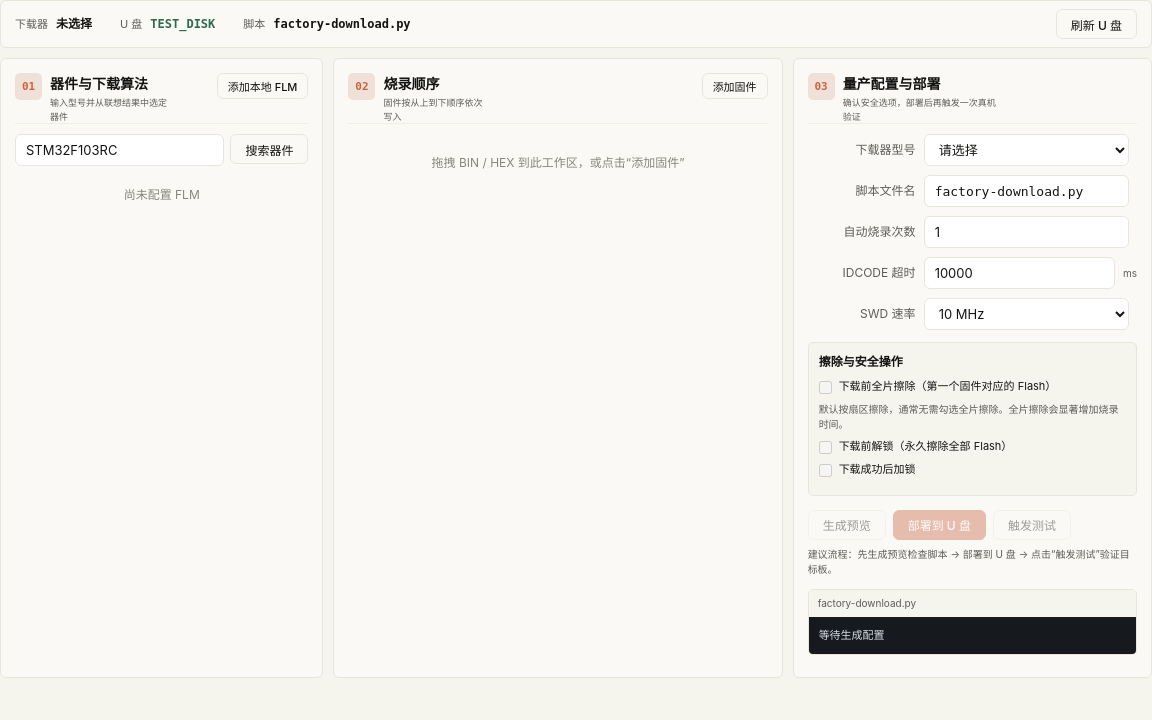
Test: OfflineFlashView › searches target suggestions while typing and supports keyboard selection
Replace the text in the dropdown with test id "offline-target-search" with "STM32F103R" at (120, 150), box x1=15 y1=134 x2=224 y2=166
Wait 151 ms
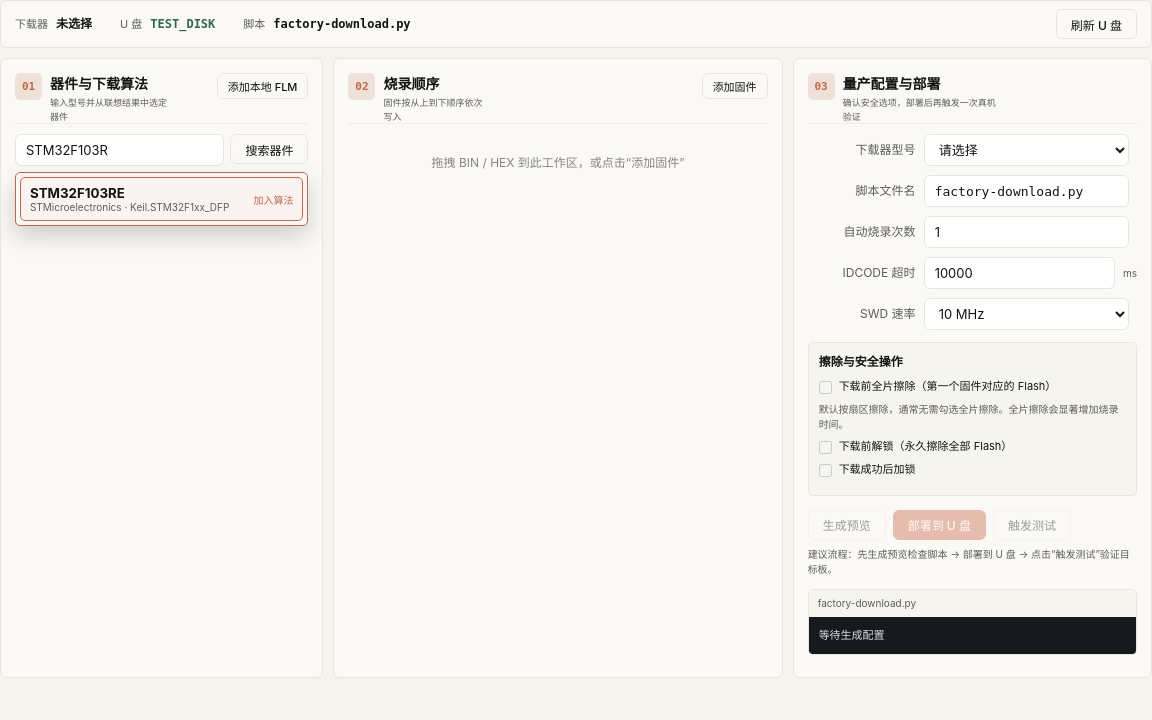
Check: the dropdown with test id "offline-target-search" is expanded
Press Enter in the dropdown with test id "offline-target-search", box x1=15 y1=134 x2=224 y2=166
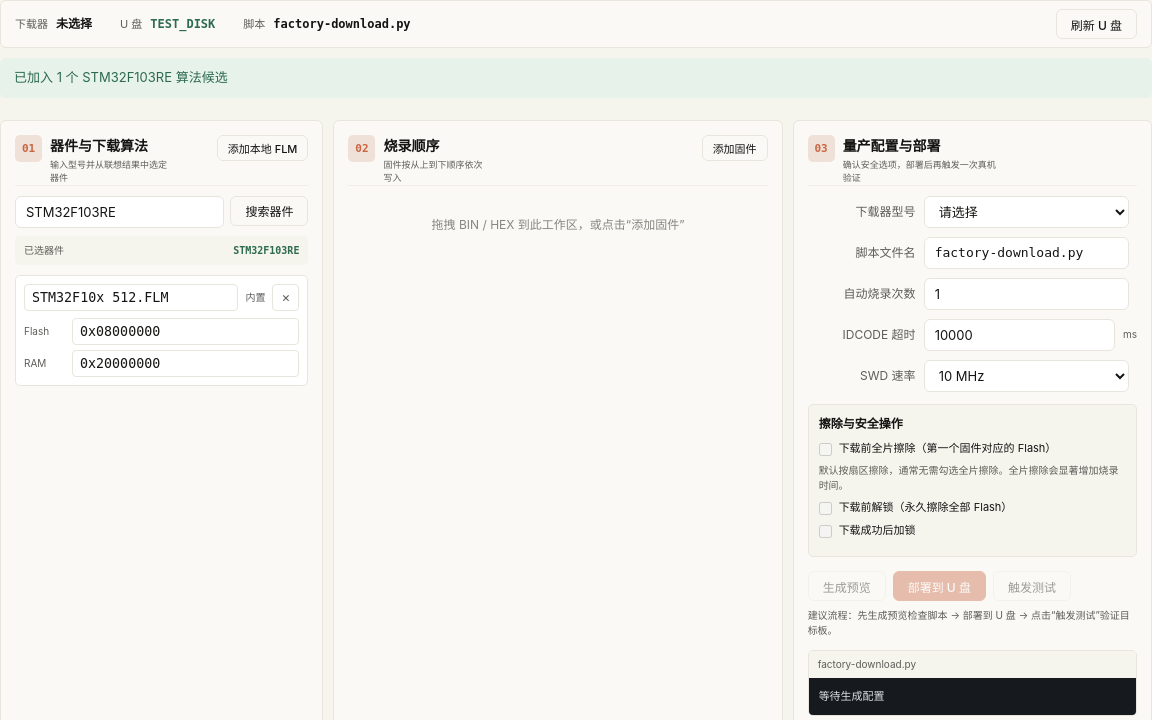
Check: the text "STM32F103RE" is shown, box x1=14 y1=69 x2=228 y2=85
Check: the text "已选器件" is shown, box x1=24 y1=242 x2=64 y2=258
